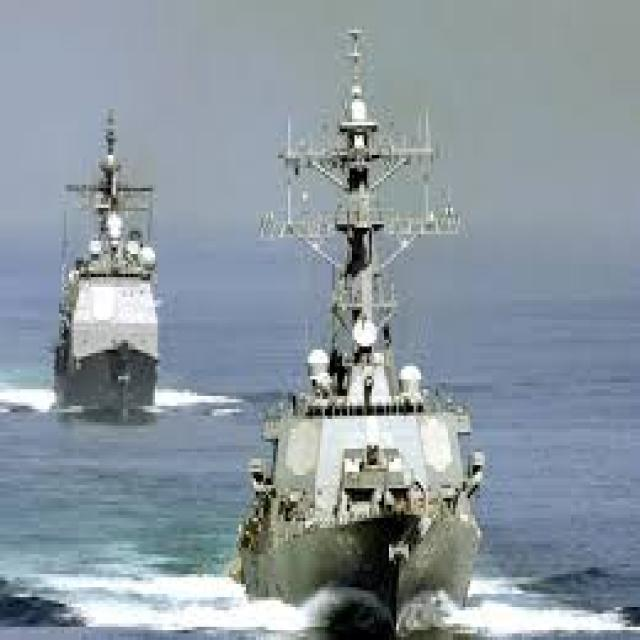navalvessels: (237, 25, 499, 598), (49, 94, 164, 412)
